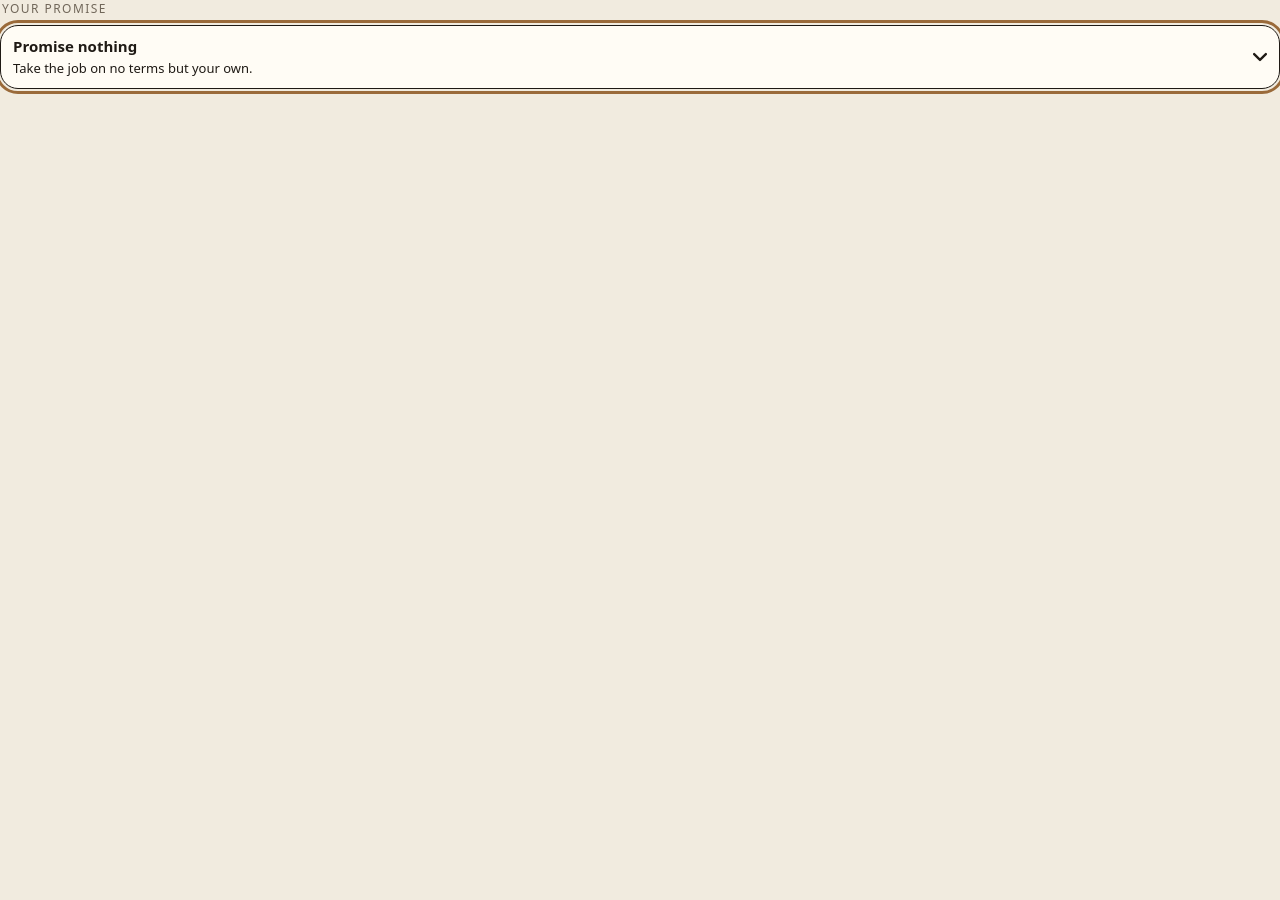
a second promise › offers only what can stand beside the first, each with what it costs
Click the button with class "mandate-current" at (75, 46), box [0, 25, 1279, 89]
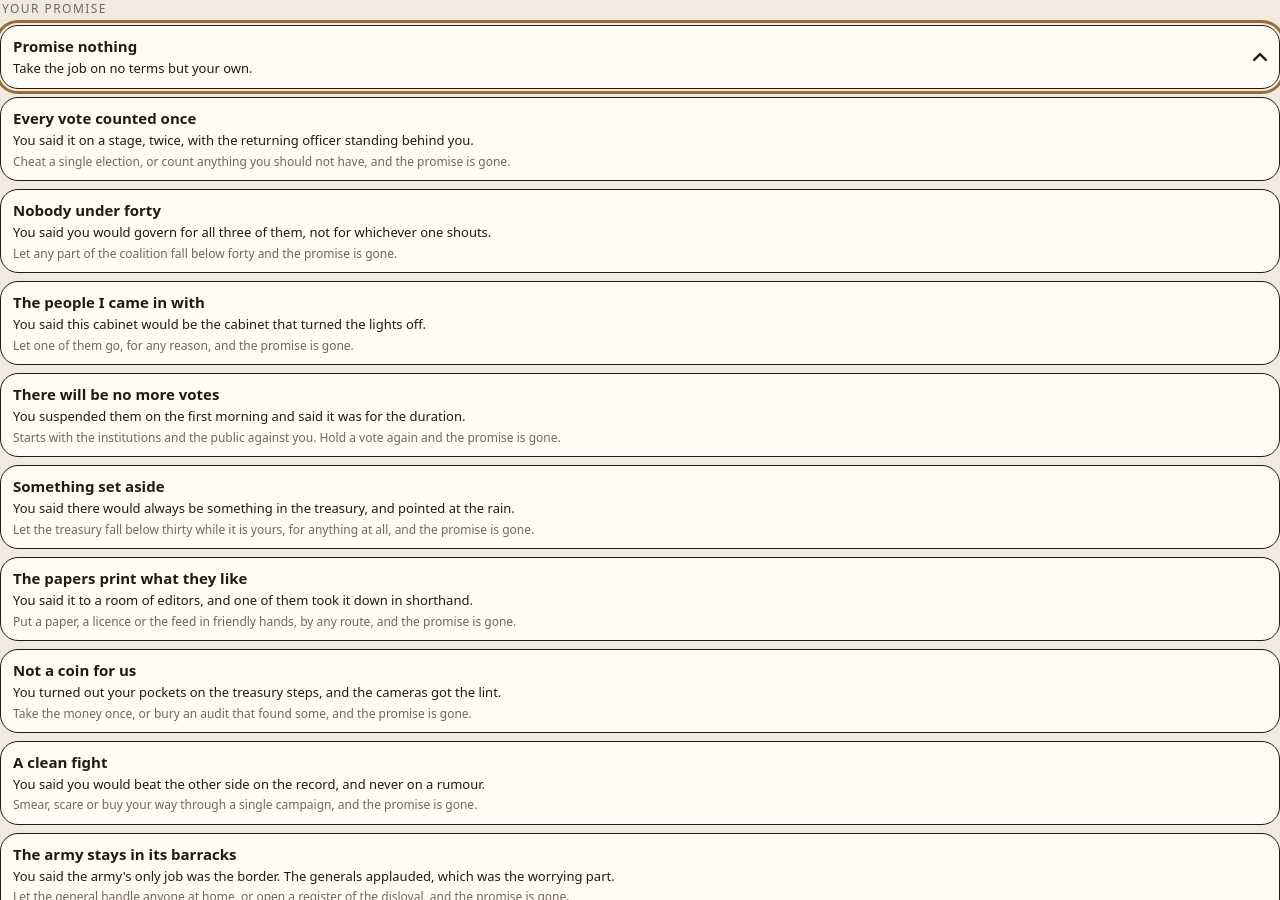
Click the button "Every vote counted once" at (105, 118), box [0, 97, 1279, 181]
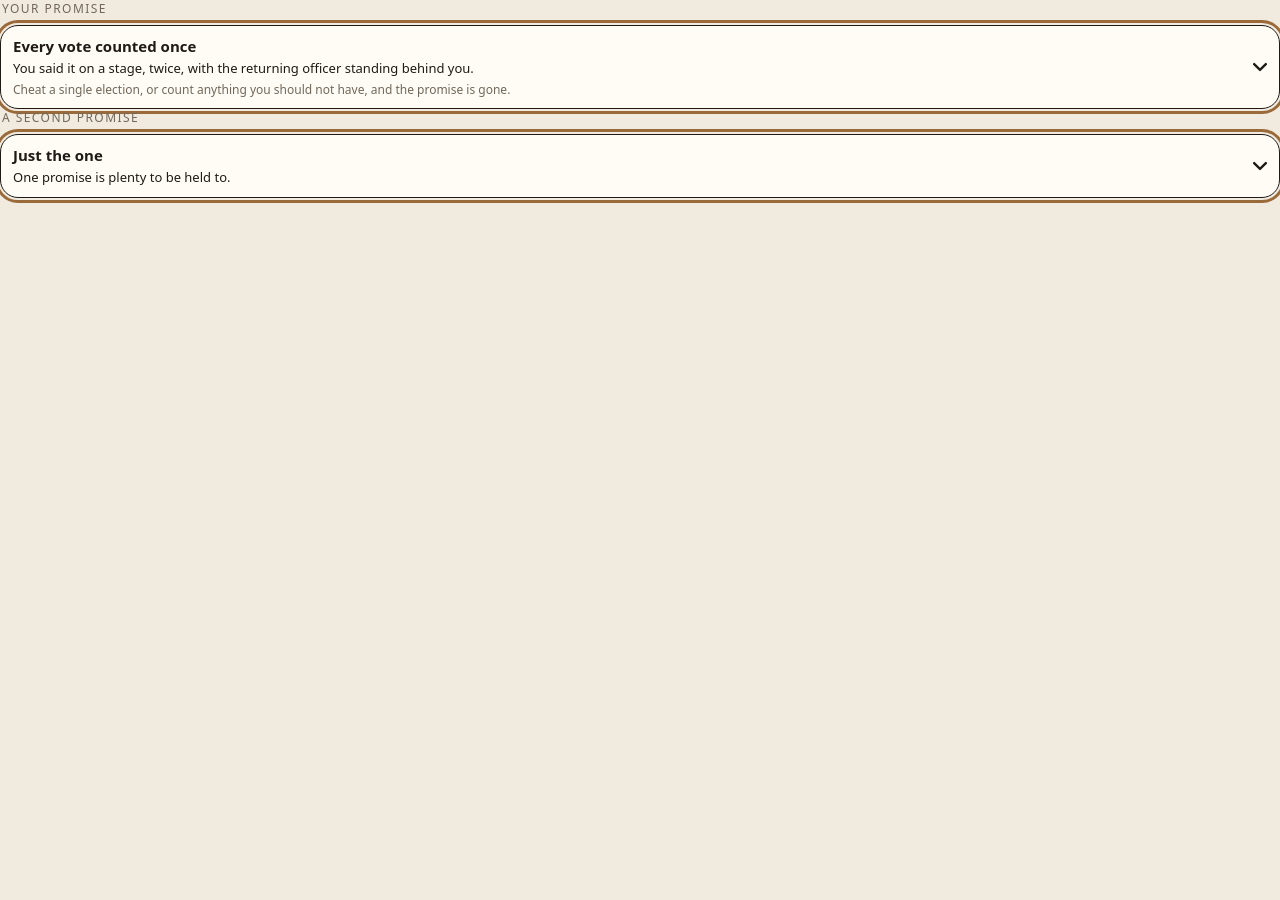
Click the button with class "mandate-current" that starts with "Just the one" at (58, 155), box [0, 134, 1279, 198]
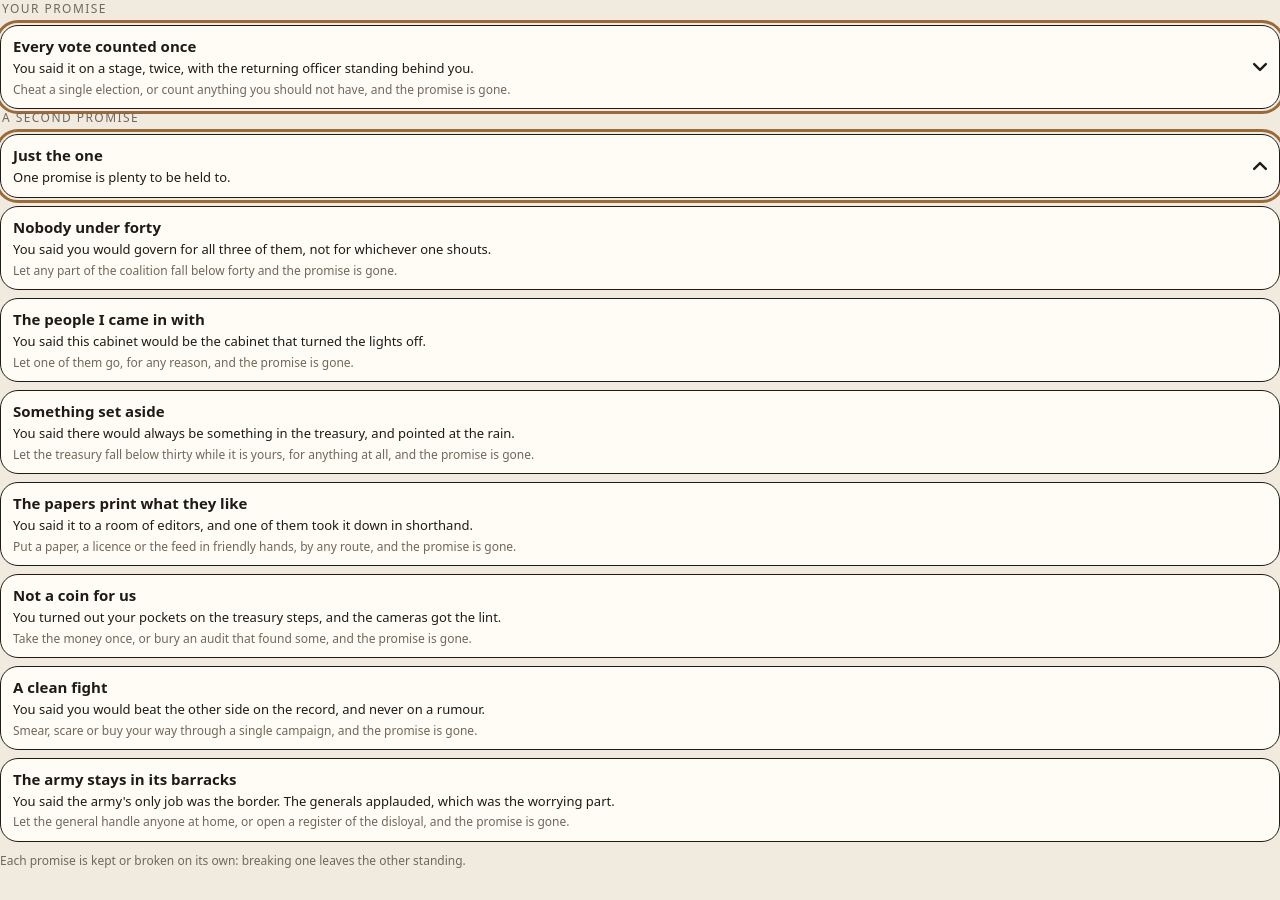
expect the button "Nobody under forty" shows "Let any part of the coalition fall below forty and the promise is gone.": met, box [0, 206, 1279, 290]
expect the button "The people I came in with" shows "Let one of them go, for any reason, and the promise is gone.": met, box [0, 298, 1279, 382]
expect the button "Something set aside" shows "Let the treasury fall below thirty while it is yours, for anything at all, and the promise is gone.": met, box [0, 390, 1279, 474]
